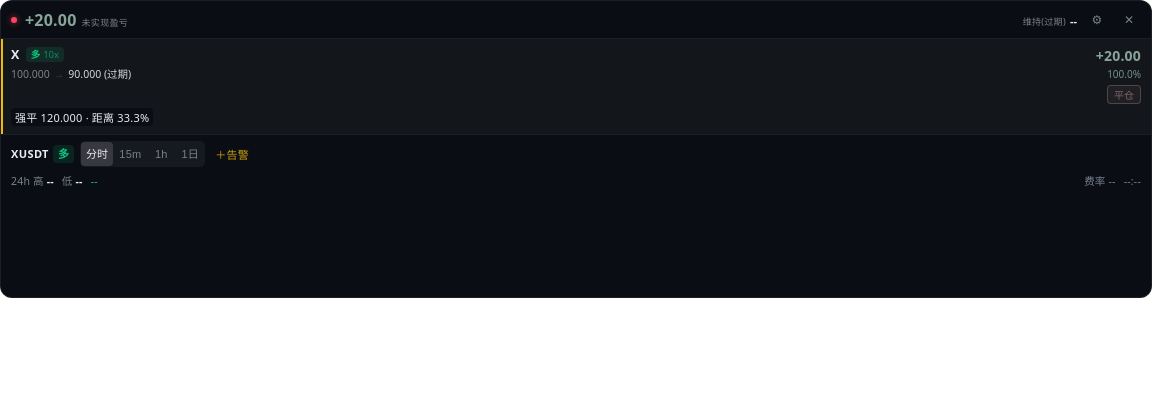
Test: 实盘平仓按钮 › 预览被后端拒绝时确认按钮不可用
Step 1. Click the button "平仓" → (1124, 94), box [1107,85,1141,104]
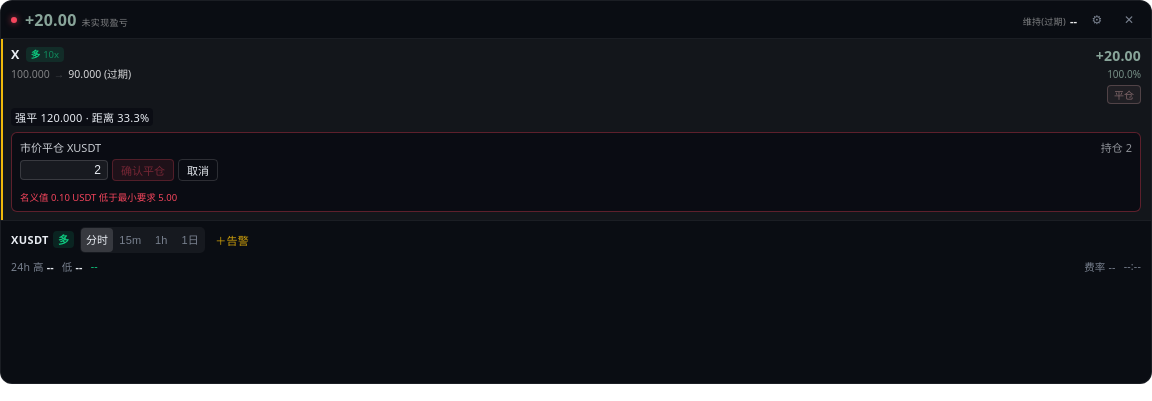
Check: the button "确认平仓" is disabled, box [112,159,174,181]
Check: the message "名义值 0.10 USDT 低于最小要求 5.00" is shown, box [20,191,177,204]
